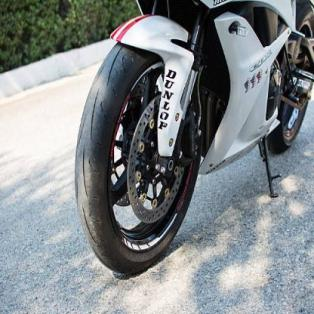Motocicleta: (64, 0, 313, 274)
